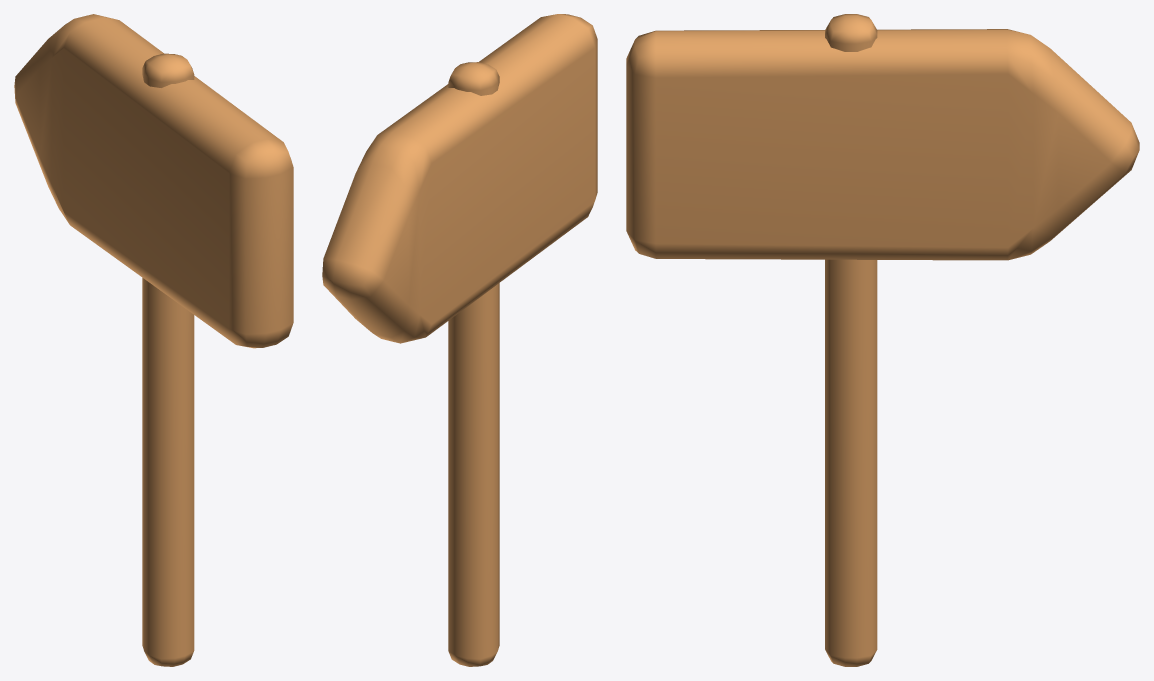
Rendered from Sign.fbx.
3 renders of one model, left to right at view 1: azimuth 30°, elevation 25°; view 2: azimuth 150°, elevation 25°; view 3: azimuth 270°, elevation 25°, orthographic. The views are drawn at different scales.
Visible parts, largest first — view 1: Sign3, Sign2; view 2: Sign3, Sign2; view 3: Sign3, Sign2.
Part boxes in pixels (x1,y1,x2,y2): Sign3: (14, 14, 293, 348); Sign2: (142, 53, 194, 666); Sign3: (322, 14, 597, 343); Sign2: (448, 62, 499, 666); Sign3: (626, 29, 1139, 260); Sign2: (825, 14, 877, 666).
Bounding box in the file's own units: 0.5321 × 4.98 × 3.59.
